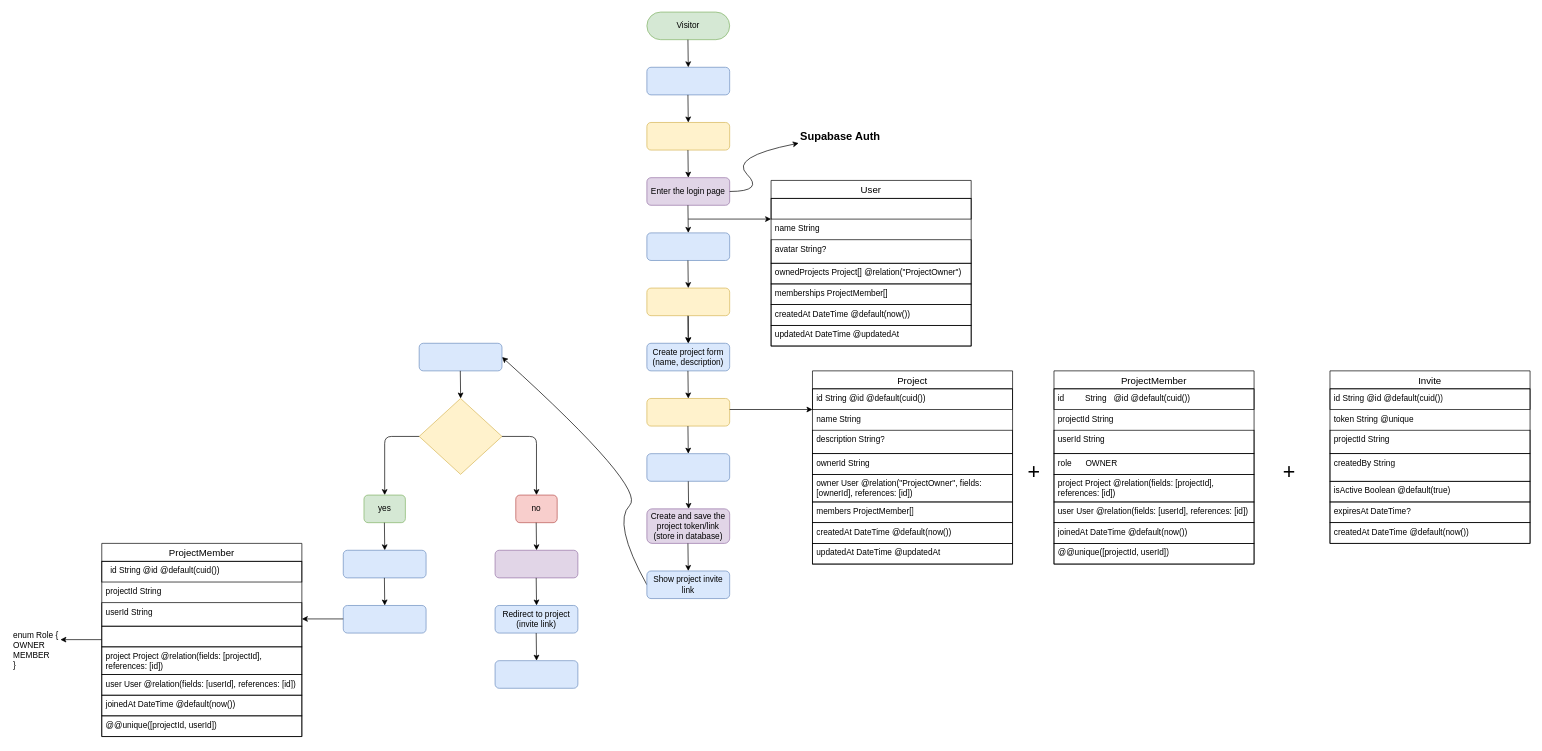
Some shapes in this 1542 by 751 pixel diagram are drawn without their labels. The shapes that lost their labels are listed below. From the top down, each one's centre as x and y in pixels, then its label:
At point 688,81: "Landign page".
At point 688,136: "Click on Get started".
At point 870,208: "id String @id @db.Uuid".
At point 688,246: "Enter the dashboard".
At point 688,301: "Click on create project".
At point 460,357: "Anyone who clicks on the invite link".
At point 688,412: "Project Created".
At point 460,436: "Is the user logged in?".
At point 688,467: "Enter the project page".
At point 384,564: "Entering the project page".
At point 536,564: "Redirect to login page".
At point 201,636: "role MEMBER".
At point 384,619: "Add a project to the user dashboard".
At point 536,674: "Adding a project to the user dashboard".
